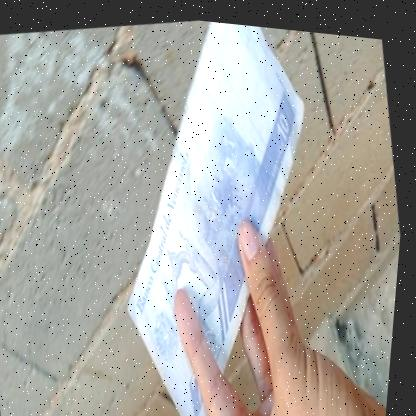ten-back-vef: (73, 8, 366, 416)
